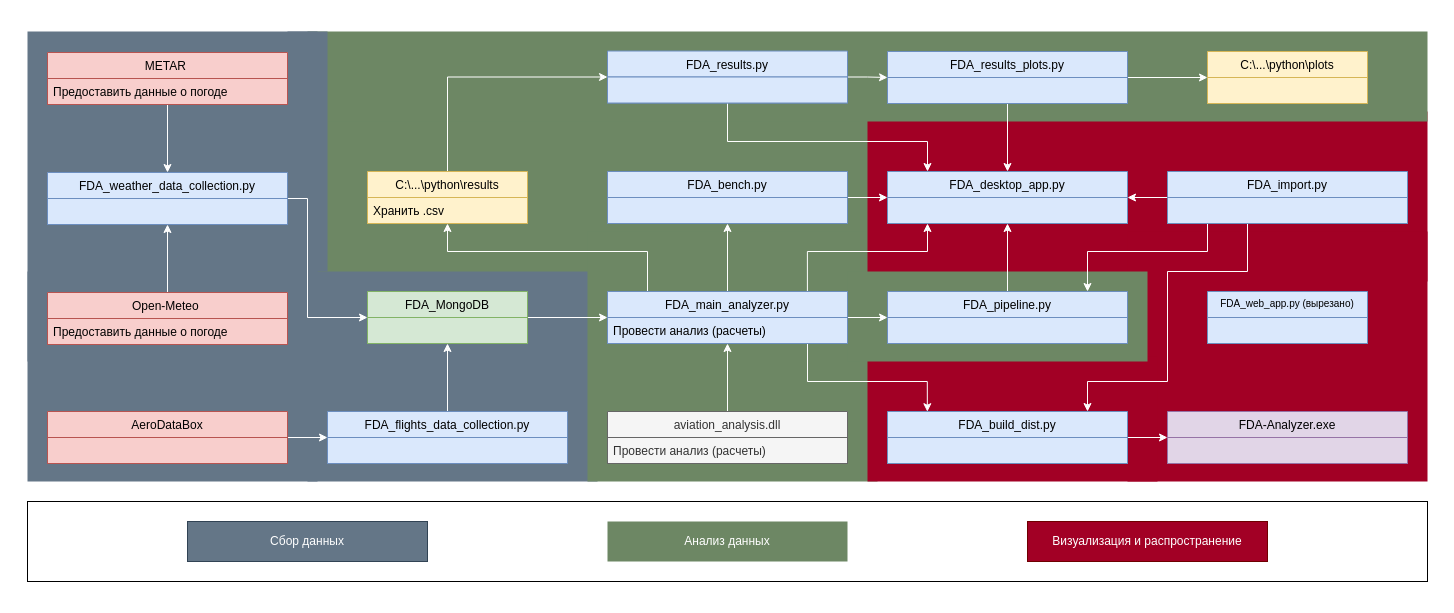
This 1454x613 diagram has some shape labels left out. The centre of each missing label's shape, as x and y in pixels:
"Запустить анализ" belongs at (x=1007, y=330).
"Импорт данных пользователя" belongs at (x=1287, y=210).
"Описание" belongs at (x=1287, y=450).
"Предоставить данные о рейсах" belongs at (x=167, y=450).
"Провести анализ (графики)" belongs at (x=1007, y=90).
"Прочесть и пересчитать результаты" belongs at (x=727, y=89).
"Развернуть веб интерфейс" belongs at (x=1287, y=330).
"Развернуть графический интерфейс" belongs at (x=1007, y=210).
"Собрать датасет рейсов" belongs at (x=447, y=450).
"Собрать датасеты погоды" belongs at (x=167, y=211).
"Создать исполняемый файл" belongs at (x=1007, y=450).
"Сравнить C++ и Python" belongs at (x=727, y=210).
"Хранить .png" belongs at (x=1287, y=90).
"Хранить датасеты" belongs at (x=447, y=330).
